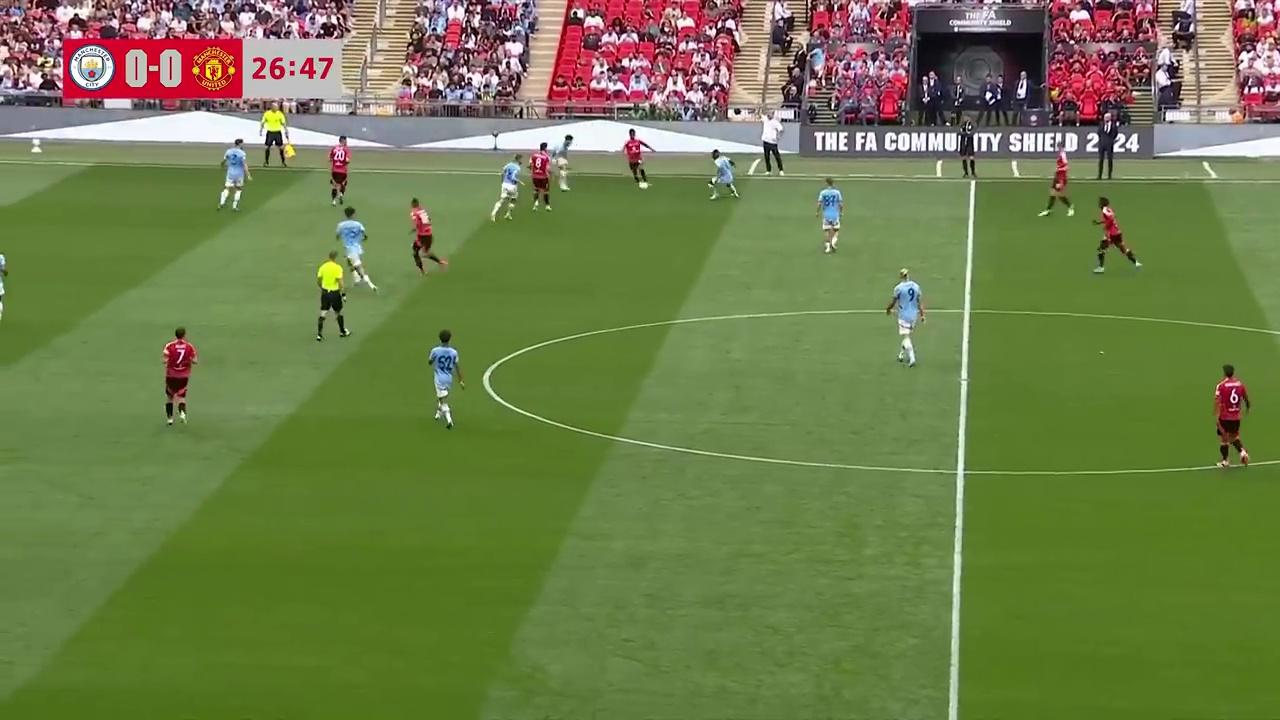ball: (706, 180, 716, 193)
player: (1213, 363, 1252, 469), (1089, 195, 1141, 274), (884, 268, 925, 367), (427, 329, 464, 431), (161, 327, 198, 428), (336, 207, 377, 293), (408, 198, 447, 276), (1037, 149, 1074, 218), (217, 135, 251, 210), (815, 177, 844, 254), (489, 157, 522, 223), (260, 107, 292, 168), (528, 144, 553, 212), (707, 149, 740, 200), (327, 135, 350, 207), (624, 134, 650, 188), (552, 139, 571, 191), (0, 243, 8, 323)
referee: (314, 248, 351, 342), (260, 110, 292, 169)
